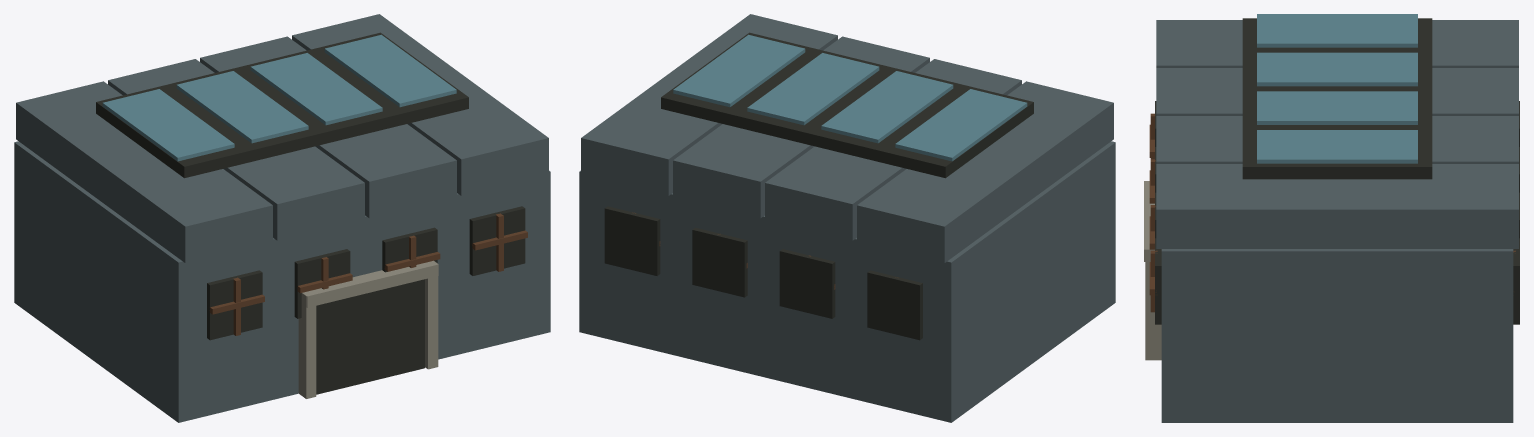
The model's file is custom-imp-electronics.glb.
3 views of the same model, side by side, from view 1: azimuth 30°, elevation 25°; view 2: azimuth 150°, elevation 25°; view 3: azimuth 270°, elevation 25° (orthographic). The views are drawn at different scales.
Parts seen in each view (by area): view 1: custom-imp-electronics; view 2: custom-imp-electronics; view 3: custom-imp-electronics.
Boxes of the visible parts, x1=… form: custom-imp-electronics: x1=14, y1=14, x2=550, y2=422; custom-imp-electronics: x1=579, y1=14, x2=1115, y2=422; custom-imp-electronics: x1=1144, y1=14, x2=1519, y2=422.
Bounding box in the file's own units: 1 × 0.5694 × 0.8171.
